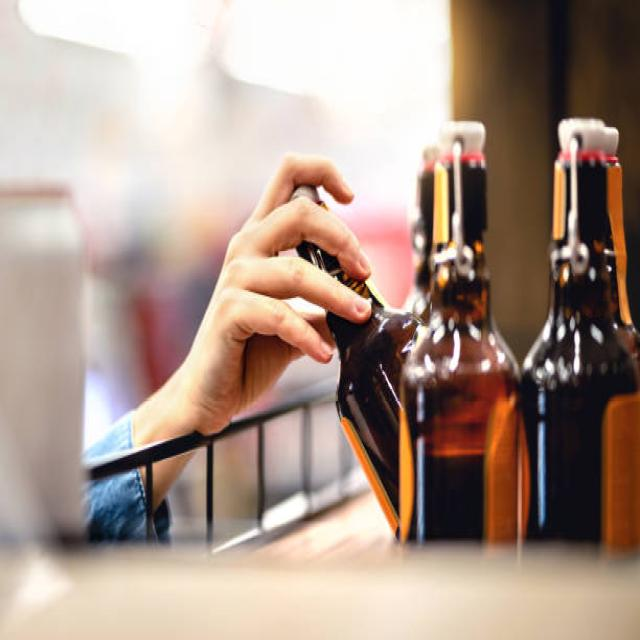article: (299, 243, 421, 533)
hands: (134, 155, 369, 444)
